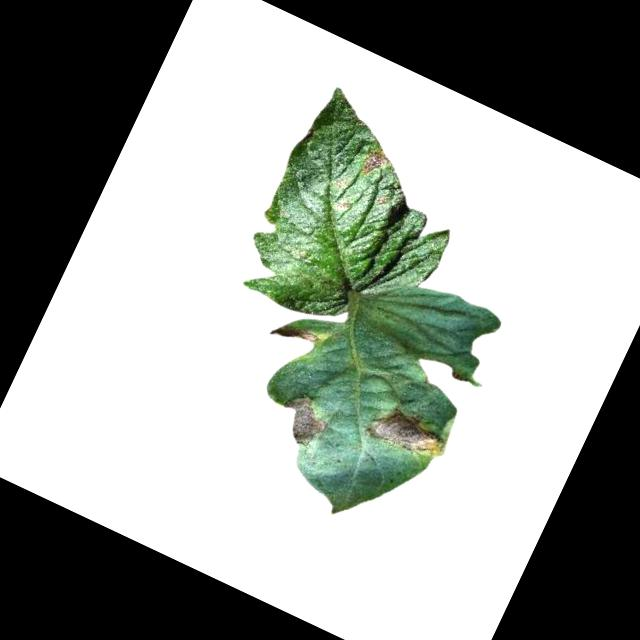Early_blight: (362, 394, 454, 470), (270, 384, 337, 453), (268, 313, 321, 354), (357, 144, 394, 182)
